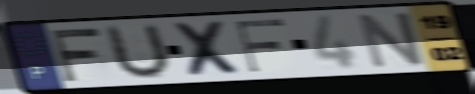4: (312, 13, 364, 72)
F: (46, 25, 104, 84), (233, 17, 288, 75)
N: (355, 10, 428, 71)
U: (104, 22, 174, 82)
X: (169, 19, 249, 78)
